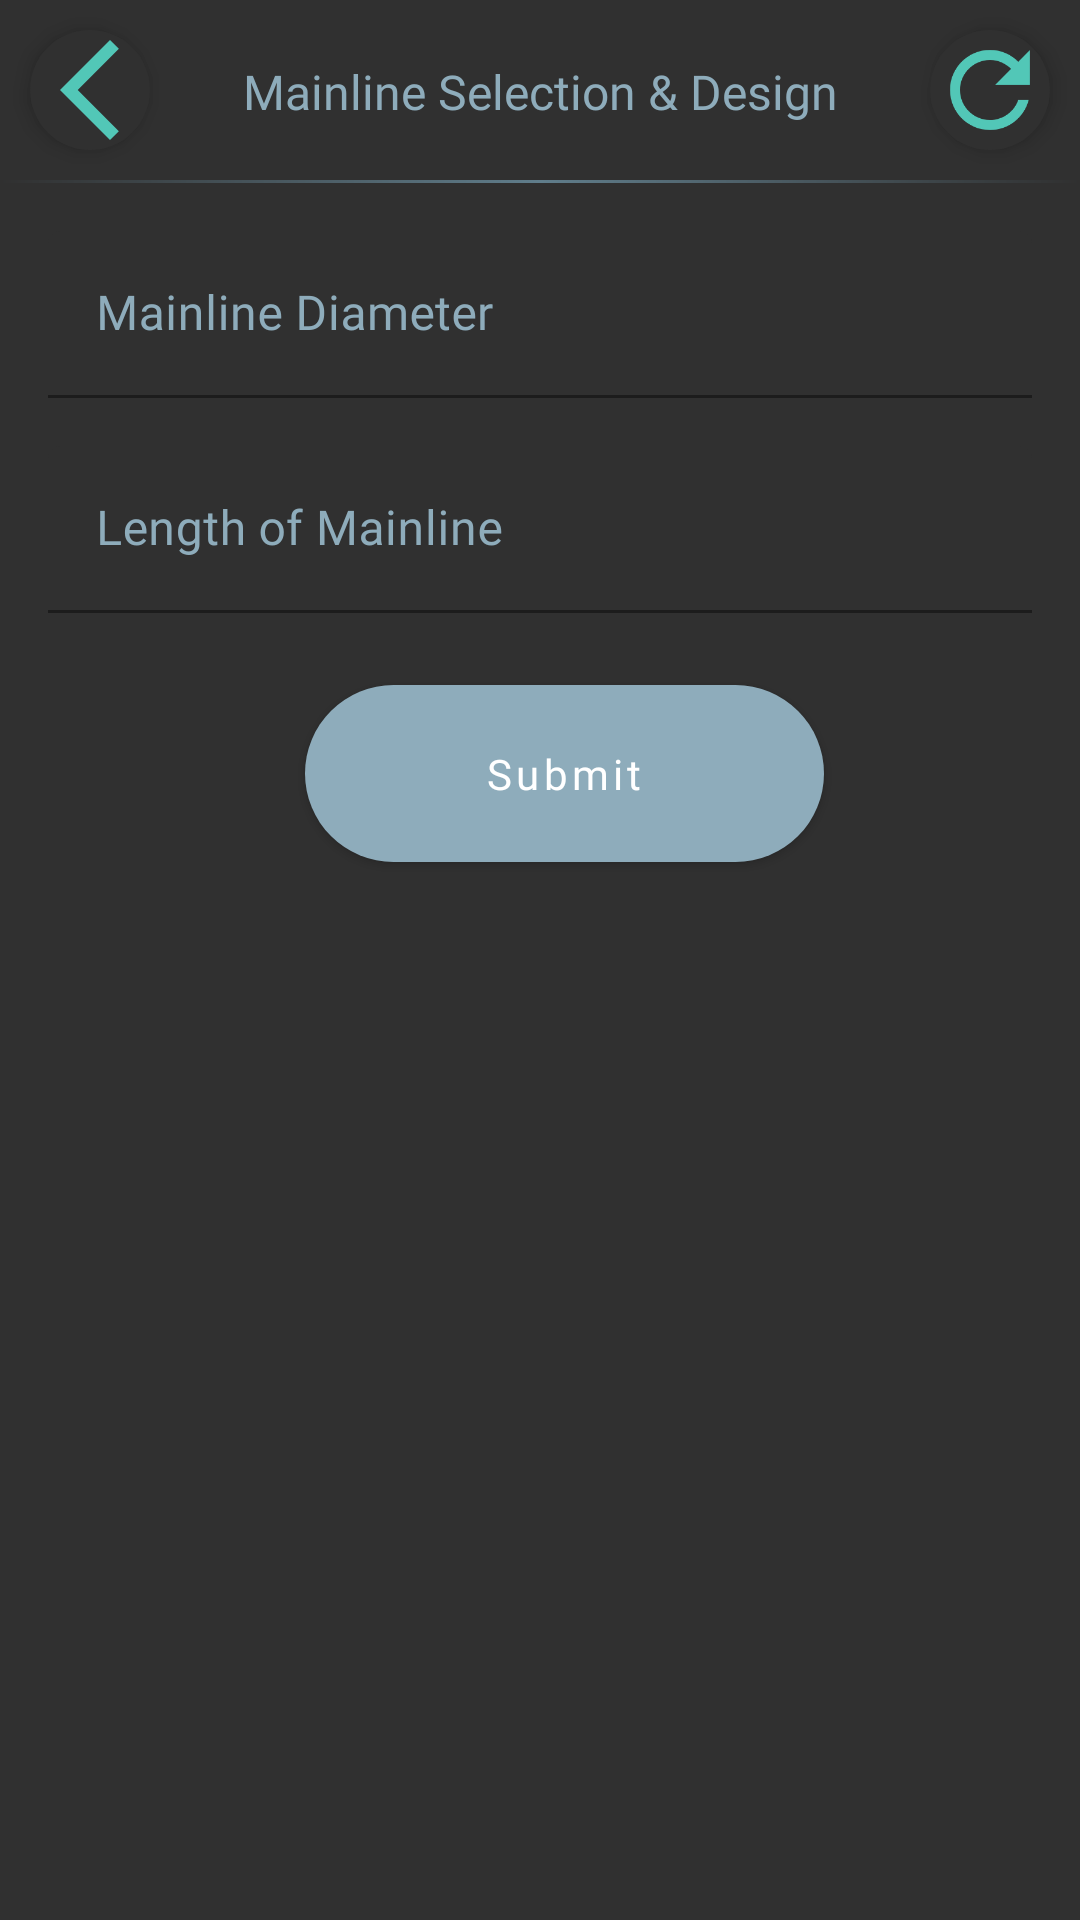

Icons on this 1080×1920 Android screen, each with the point to tap as point (x, y):
Back: point (89, 90)
Reset: point (990, 90)
